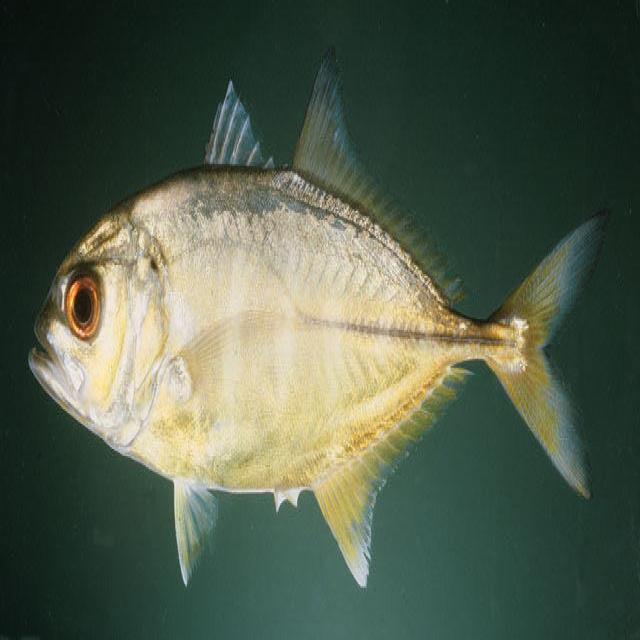ikan: (19, 35, 614, 604)
